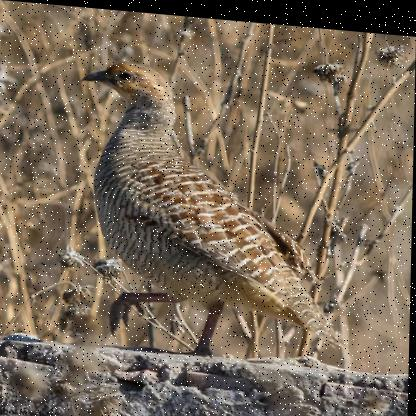Burung: (78, 56, 352, 363)
